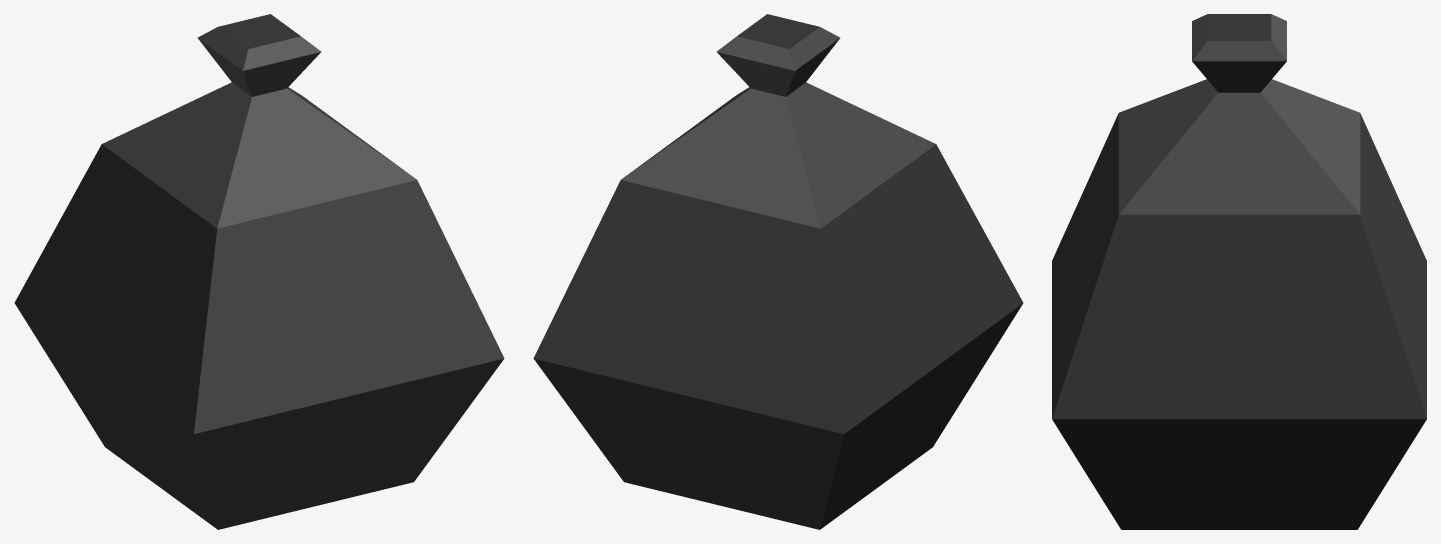
The model's file is SM_RubbishBag_01.fbx.
The picture shows the model from 3 angles, left to right: view 1: azimuth 30°, elevation 25°; view 2: azimuth 150°, elevation 25°; view 3: azimuth 270°, elevation 25°; orthographic projection. The views are drawn at different scales.
Parts seen in each view (by area): view 1: SM_RubbishBag_01; view 2: SM_RubbishBag_01; view 3: SM_RubbishBag_01.
Part boxes in pixels (left/top/right/bottom): SM_RubbishBag_01: left=14, top=14, right=504, bottom=529; SM_RubbishBag_01: left=533, top=14, right=1023, bottom=529; SM_RubbishBag_01: left=1052, top=14, right=1426, bottom=529.
Bounding box in the file's own units: 1.08 × 1.44 × 1.08.
